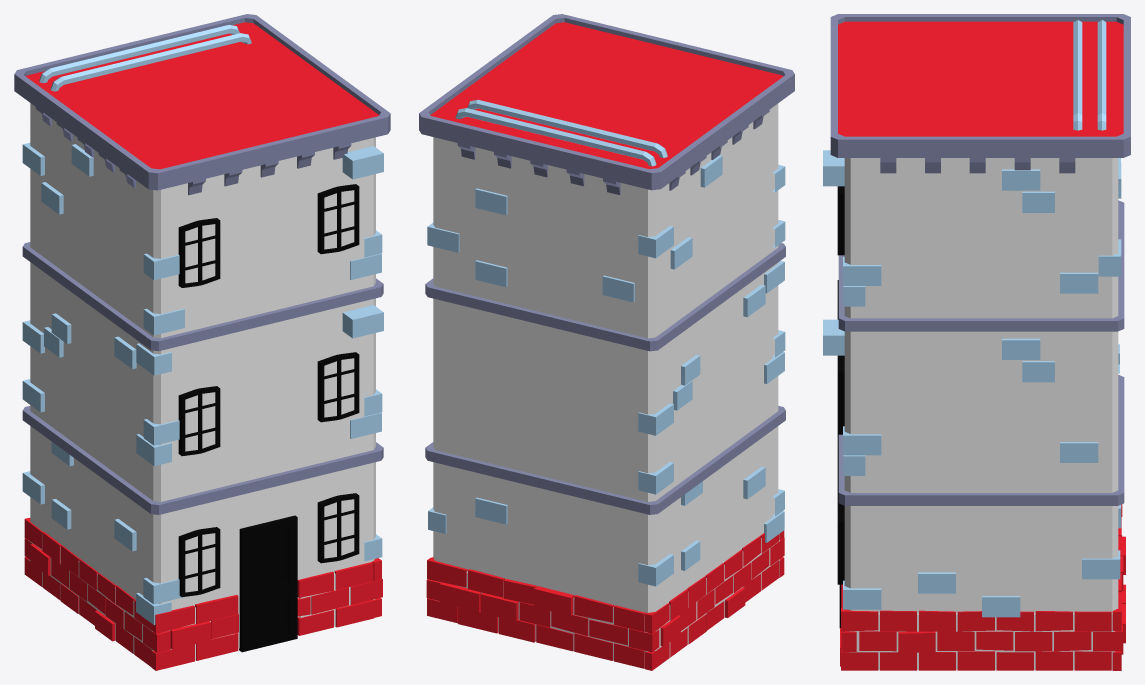
File: building_quaternius_3Story_Small.glb
3 renders of one model, left to right at view 1: azimuth 30°, elevation 25°; view 2: azimuth 150°, elevation 25°; view 3: azimuth 270°, elevation 25°, orthographic. The views are drawn at different scales.
Bounding box in the file's own units: 1.91 × 3.85 × 1.97.
Materials: 1 (1 with a texture image).
